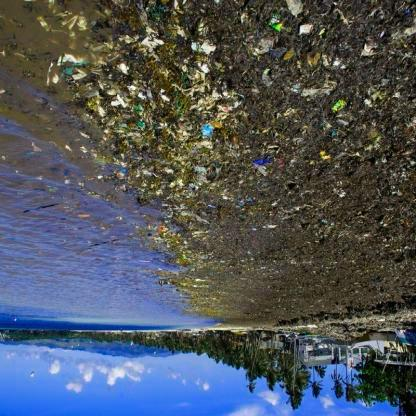Trash: (43, 5, 92, 39), (61, 48, 90, 73), (45, 54, 60, 88)
